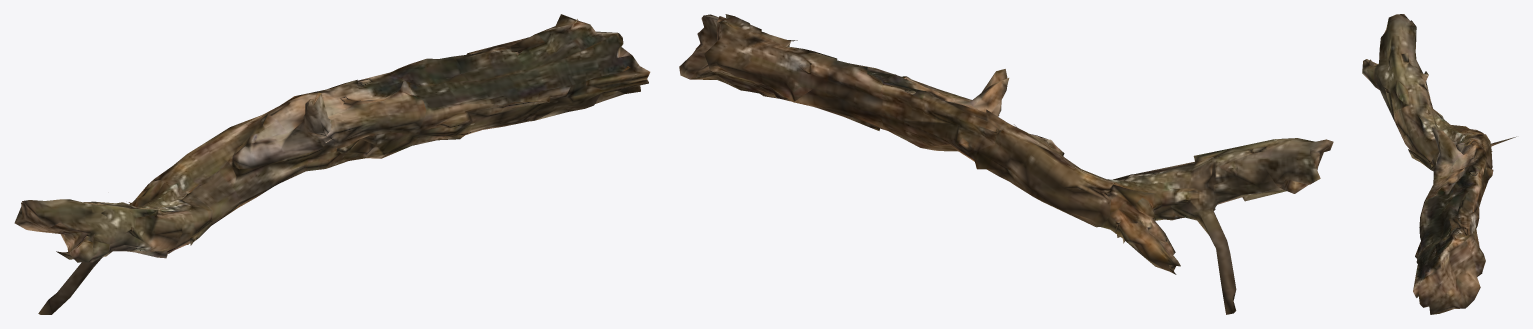
The model's file is tree-dead-trunk-02.lite.280e106a.glb.
The picture shows the model from 3 angles, left to right: view 1: azimuth 30°, elevation 25°; view 2: azimuth 150°, elevation 25°; view 3: azimuth 270°, elevation 25°; orthographic projection. The views are drawn at different scales.
Parts seen in each view (by area): view 1: model; view 2: model; view 3: model.
Part boxes in pixels (x1=…): model: x1=14, y1=14, x2=650, y2=314; model: x1=679, y1=14, x2=1333, y2=314; model: x1=1362, y1=14, x2=1516, y2=314.
Bounding box in the file's own units: 4.05 × 1.05 × 1.05.
Materials: 1 (1 with a texture image).
